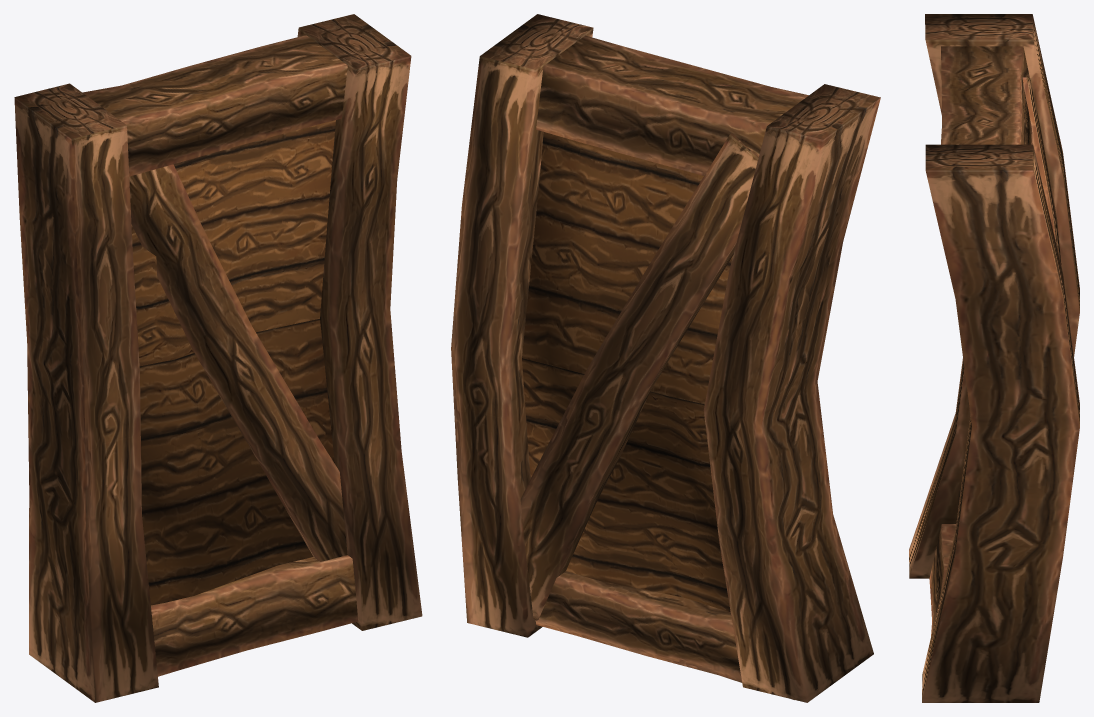
The model's file is window_barn1.fbx.
The picture shows the model from 3 angles, left to right: view 1: azimuth 30°, elevation 25°; view 2: azimuth 150°, elevation 25°; view 3: azimuth 270°, elevation 25°; orthographic projection. The views are drawn at different scales.
Visible parts, largest first — view 1: window_barn1; view 2: window_barn1; view 3: window_barn1.
Part boxes in pixels (x1,y1,x2,y2): window_barn1: (14, 14, 422, 702); window_barn1: (451, 14, 880, 702); window_barn1: (909, 14, 1079, 702).
Bounding box in the file's own units: 47.66 × 73.5 × 21.43.
